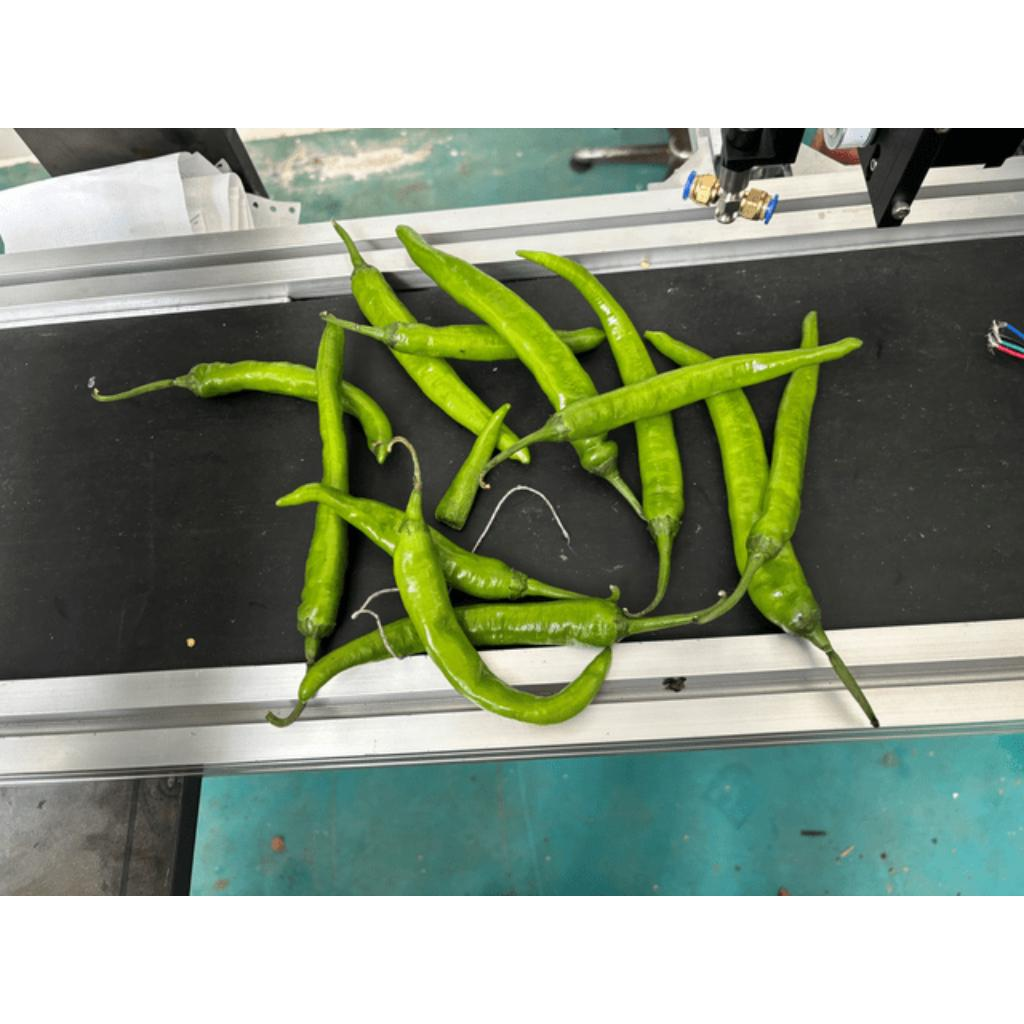chili: (392, 222, 625, 478), (641, 328, 823, 644), (514, 248, 687, 549), (392, 514, 616, 724), (351, 260, 534, 468), (545, 334, 869, 448), (297, 599, 631, 702), (270, 479, 532, 602), (184, 358, 396, 471), (290, 309, 351, 643), (744, 303, 821, 561), (433, 401, 515, 534), (381, 320, 609, 364)
